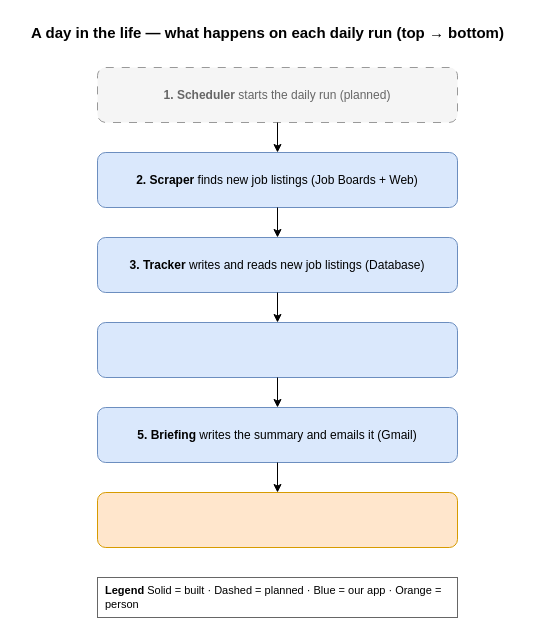
Image size: 534x635. Some labels were removed from this diagram. Here are the shapes that lost their labels. From the top down, the centre of each, then its label:
point (277, 350): 4. Scorer rates each job against your resume (DeepSeek)
point (277, 520): 6. Job Seeker reads the daily briefing
